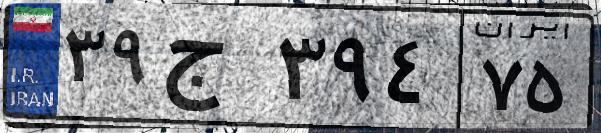3: (270, 28, 330, 110), (57, 26, 110, 100)
4: (385, 28, 445, 110)
5: (525, 38, 570, 115)
7: (475, 38, 525, 113)
9: (330, 28, 385, 110), (110, 28, 158, 98)
ج: (158, 20, 270, 120)
